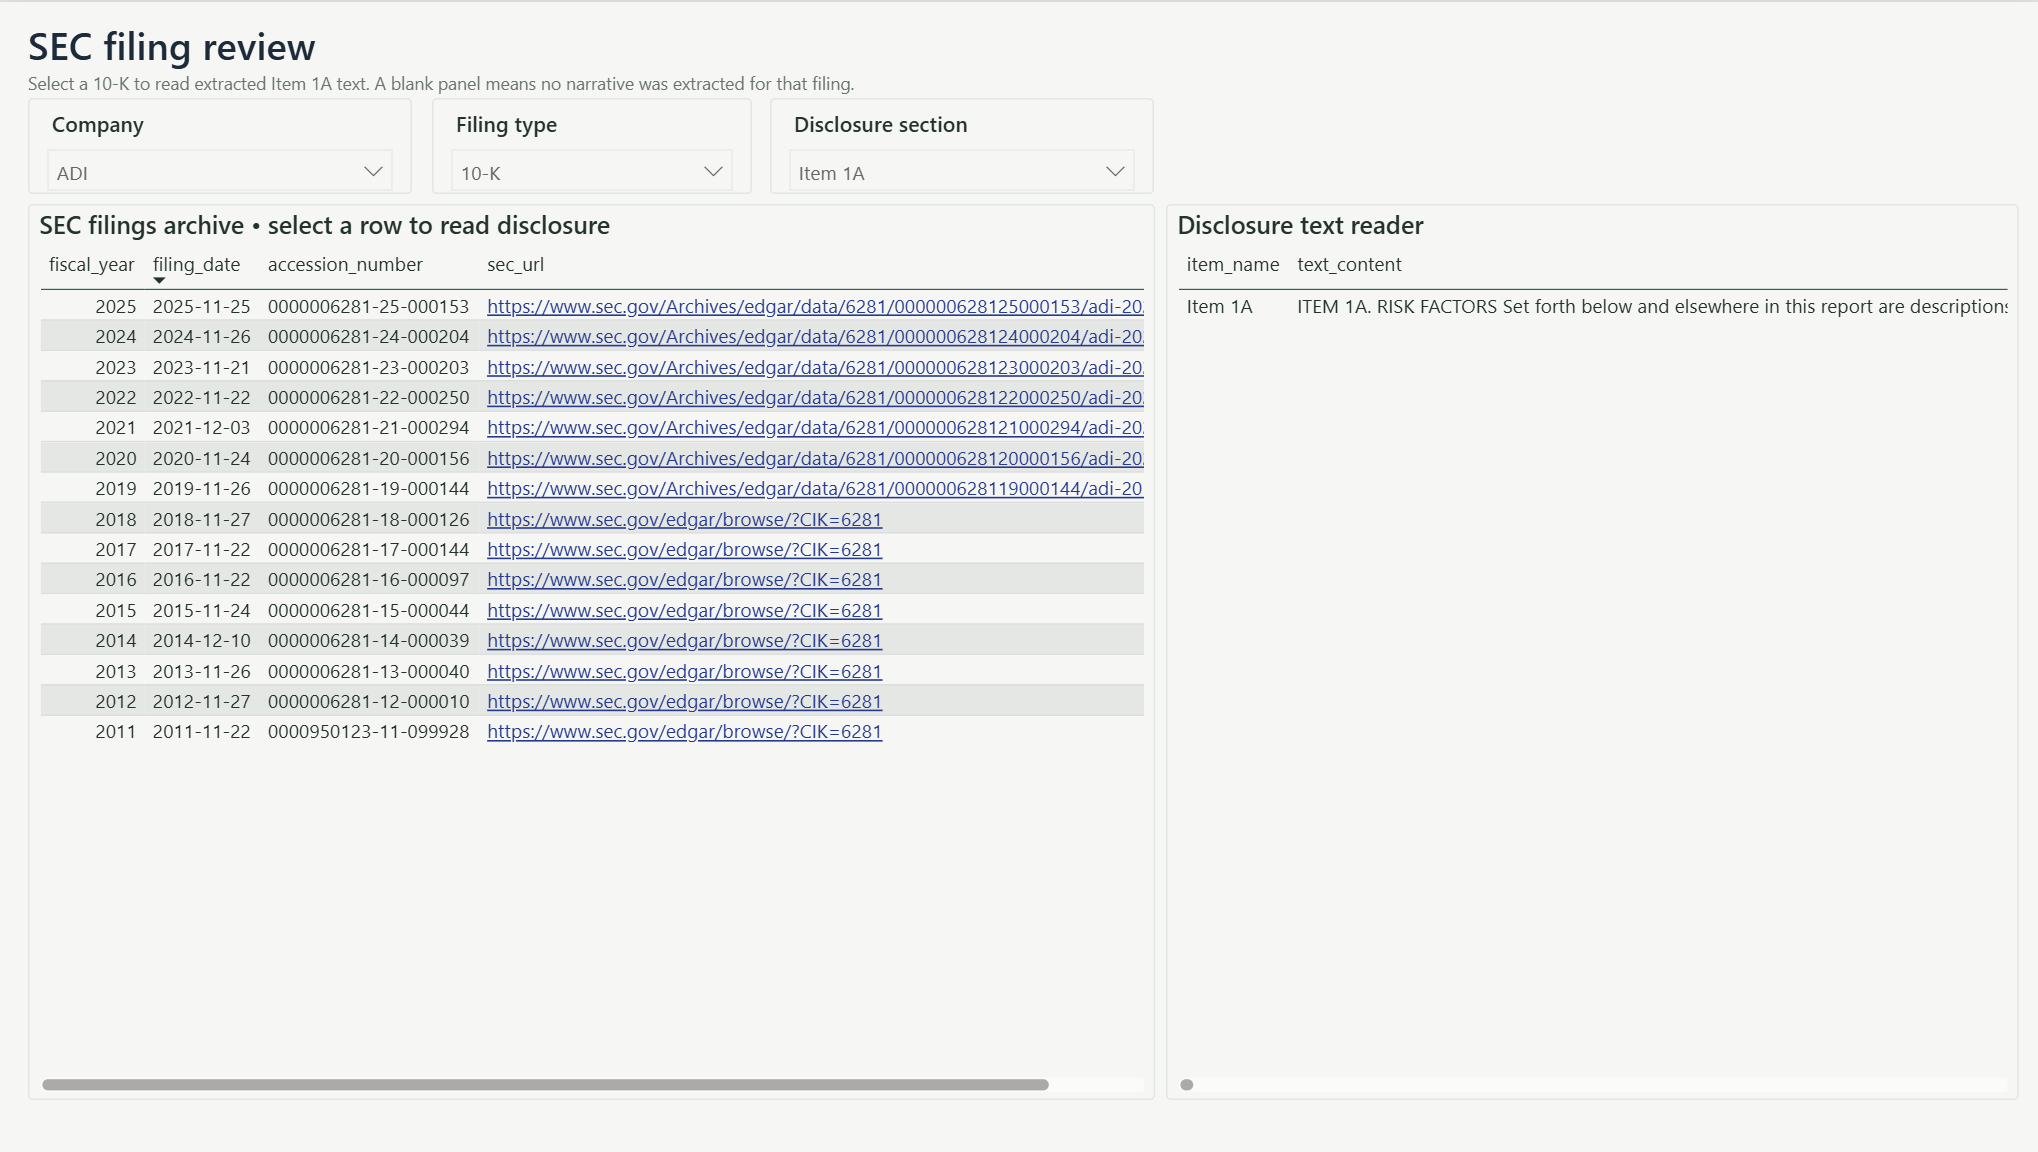

The dashboard page shown, as its layout file describes it:
{"tool":"powerbi","page":{"name":"SEC filing review","canvas":[1280,720],"ordinal":3},"visuals":[{"type":"slicer","fields":{"Values":["dim_filing.company_ticker"]},"box":[20,60,240,60],"z":0},{"type":"slicer","fields":{"Values":["dim_filing.form_type"]},"box":[272,60,200,60],"z":0},{"type":"slicer","fields":{"Values":["fact_narrative.item_name"]},"box":[484,60,240,60],"z":0},{"type":"tableEx","title":"SEC filings archive • select a row to read disclosure","fields":{"Values":["dim_filing.fiscal_year","dim_filing.filing_date","dim_filing.accession_number","dim_filing.sec_url"]},"box":[20,125.7,704.3,560],"z":0},{"type":"tableEx","title":"Disclosure text reader","fields":{"Values":["fact_narrative.item_name","fact_narrative.text_content"]},"box":[730.7,126.4,532.9,560],"z":0},{"type":"textbox","box":[20,10,960,48],"z":1000}]}

Visuals, with their boxes in screenshot pixels (x1, y1, x2, y2), scaled from the page's 1280x720 canvas onto the 2038x1152 screenshot:
slicer - dim_filing.company_ticker: <bbox>32, 96, 414, 192</bbox>
slicer - dim_filing.form_type: <bbox>433, 96, 752, 192</bbox>
slicer - fact_narrative.item_name: <bbox>771, 96, 1153, 192</bbox>
"SEC filings archive • select a row to read disclosure" tableEx: <bbox>32, 201, 1153, 1097</bbox>
"Disclosure text reader" tableEx: <bbox>1163, 202, 2012, 1098</bbox>
textbox: <bbox>32, 16, 1560, 93</bbox>
